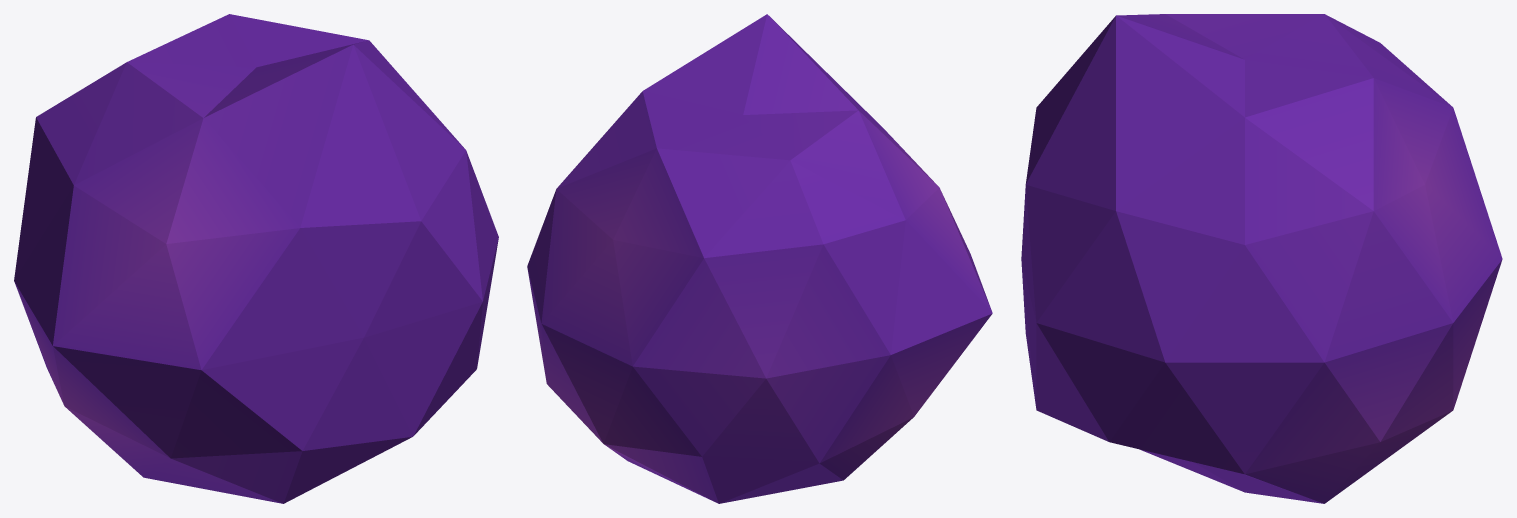
The model's file is Portal.fbx.
The picture shows the model from 3 angles, left to right: view 1: azimuth 30°, elevation 25°; view 2: azimuth 150°, elevation 25°; view 3: azimuth 270°, elevation 25°; orthographic projection. The views are drawn at different scales.
Parts seen in each view (by area): view 1: Icosphere; view 2: Icosphere; view 3: Icosphere.
Boxes of the visible parts, box(x1,y1,x2,y2) form: Icosphere: box(14, 14, 498, 503); Icosphere: box(527, 14, 992, 503); Icosphere: box(1021, 14, 1502, 503).
Size of the model in its own units: 208 by 212 by 187.
